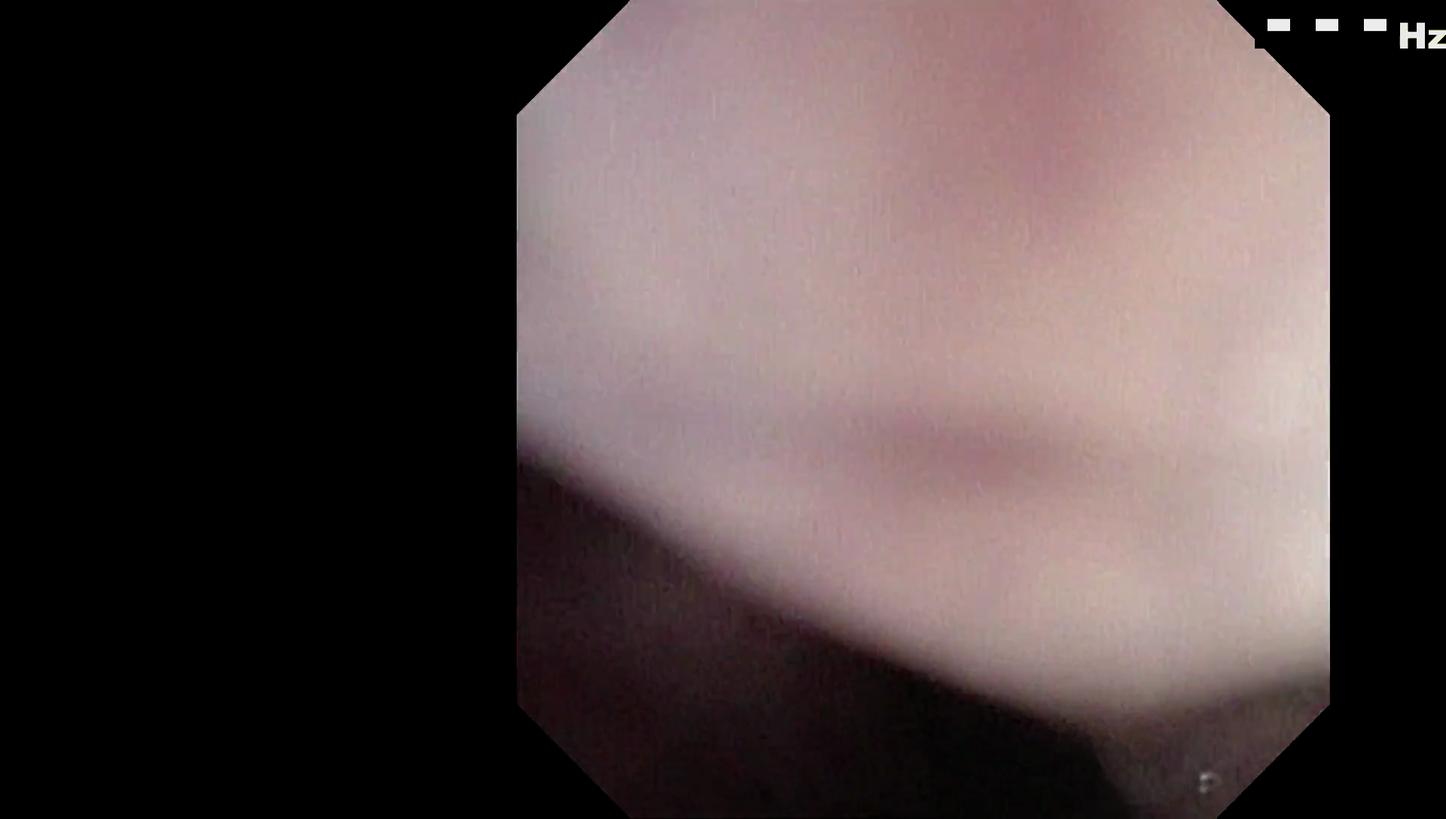close_wall: (545, 101, 1300, 726)
next: (715, 572, 1151, 819)
